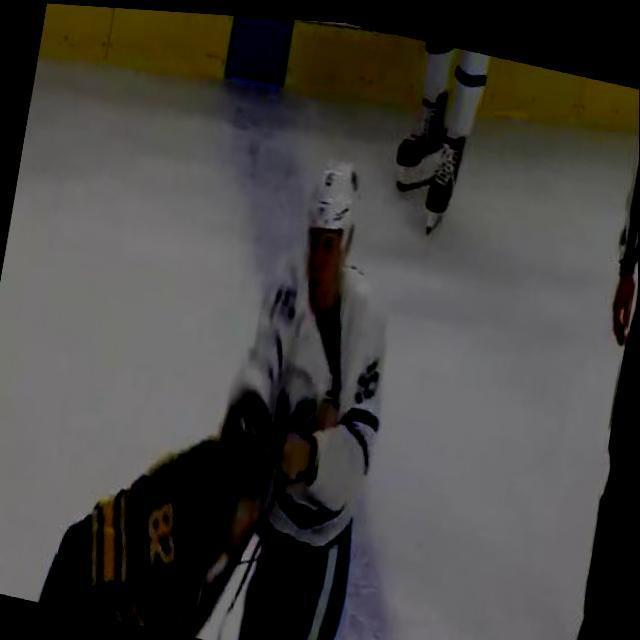fight: (42, 107, 424, 640)
